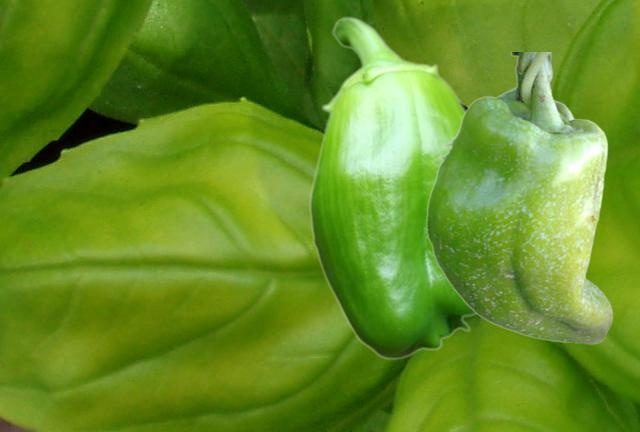bell_pepper: (308, 16, 476, 359), (425, 52, 612, 343)
